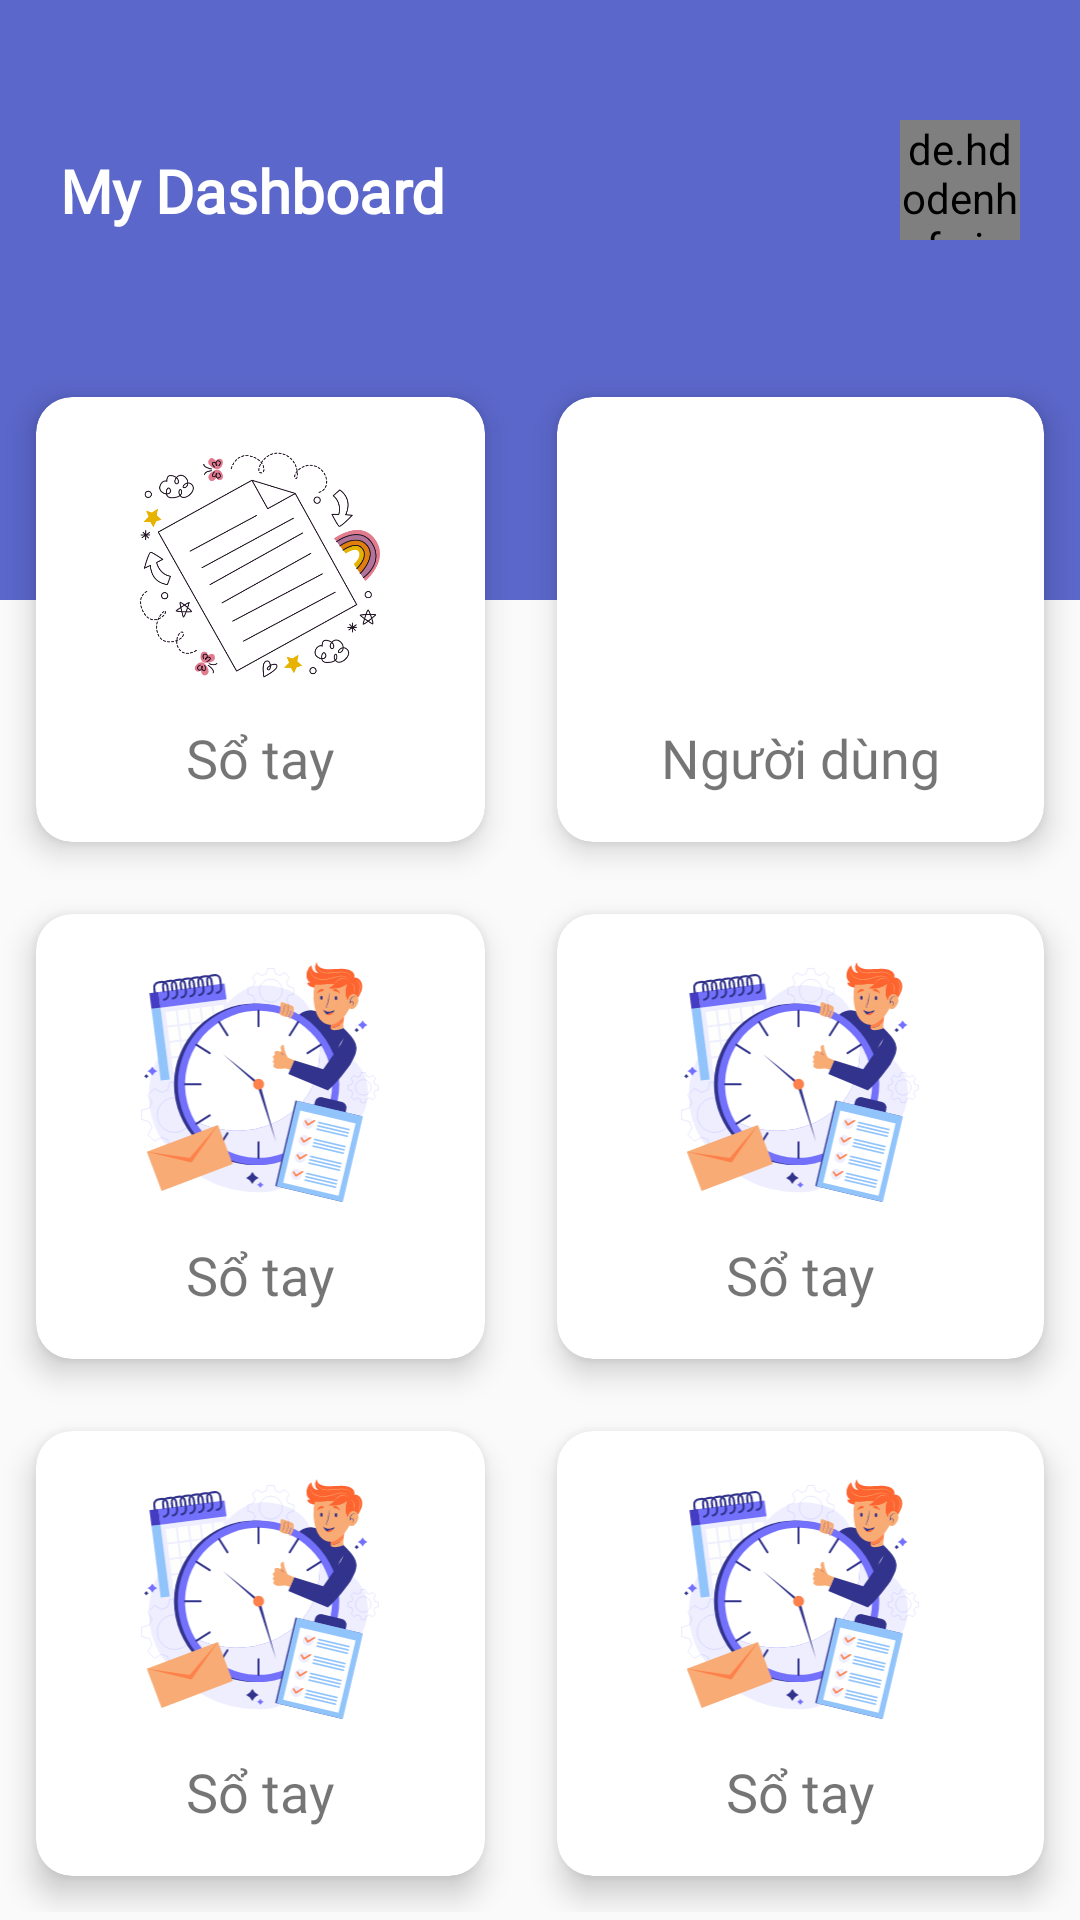

Locate icon controls on the screen. Image size 1080*1920, boxes as (x1, y1, x2, y2).
file: (140, 452, 380, 678)
